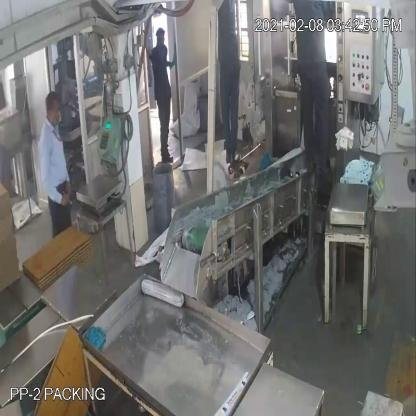no_glove: (36, 147, 72, 206)
